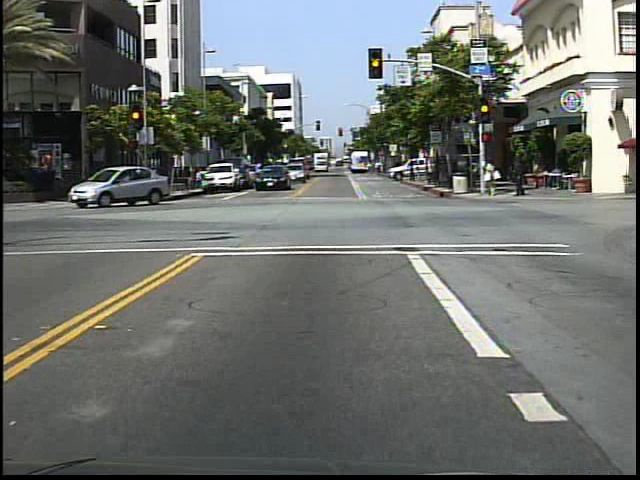person: (481, 155, 501, 201), (511, 154, 529, 197), (121, 164, 139, 201)
